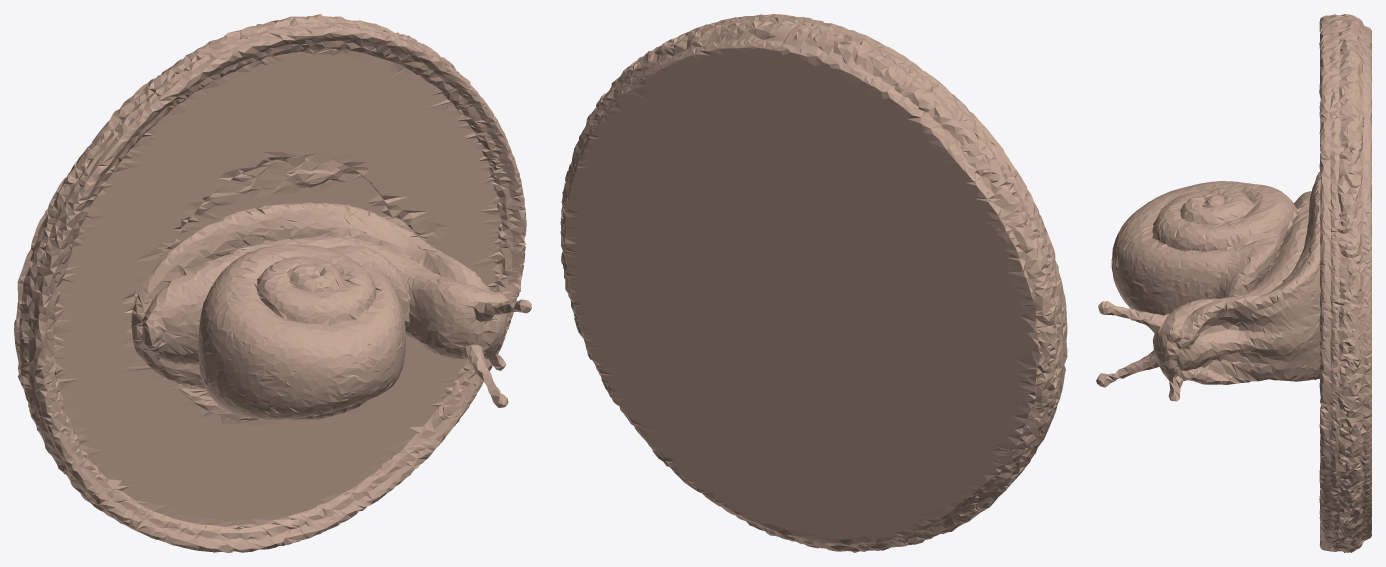
Rendered from H15-web.glb.
3 renders of one model, left to right at view 1: azimuth 30°, elevation 25°; view 2: azimuth 150°, elevation 25°; view 3: azimuth 270°, elevation 25°, orthographic. The views are drawn at different scales.
Parts seen in each view (by area): view 1: geometry_0; view 2: geometry_0; view 3: geometry_0.
Boxes of the visible parts, x1,y1,x2,y2 form: geometry_0: (14, 14, 531, 552); geometry_0: (560, 14, 1067, 552); geometry_0: (1096, 14, 1371, 552).
Bounding box in the file's own units: 0.000972 × 0.000971 × 0.000493.
